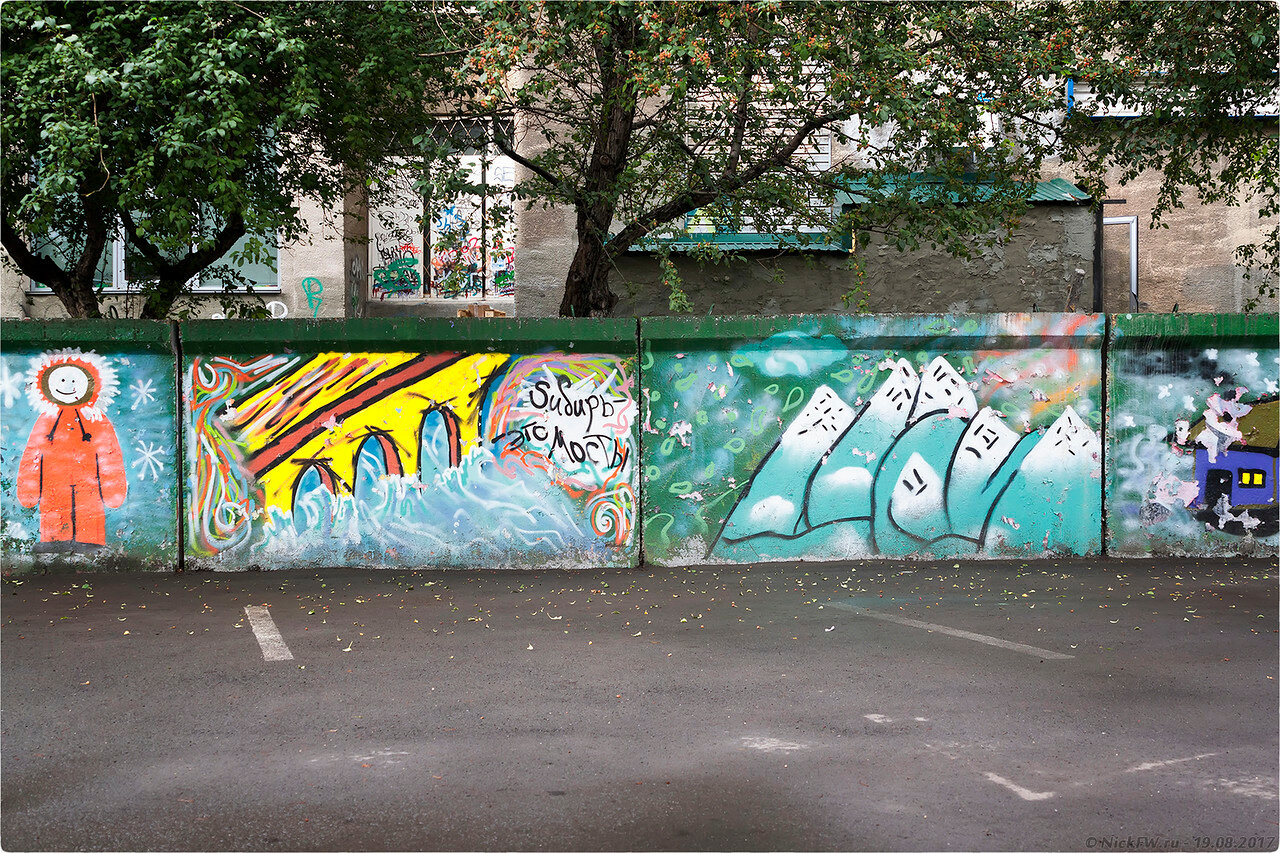graphite: (195, 356, 647, 579), (714, 359, 1110, 558), (1117, 357, 1278, 559), (26, 354, 147, 553), (507, 381, 640, 481)
